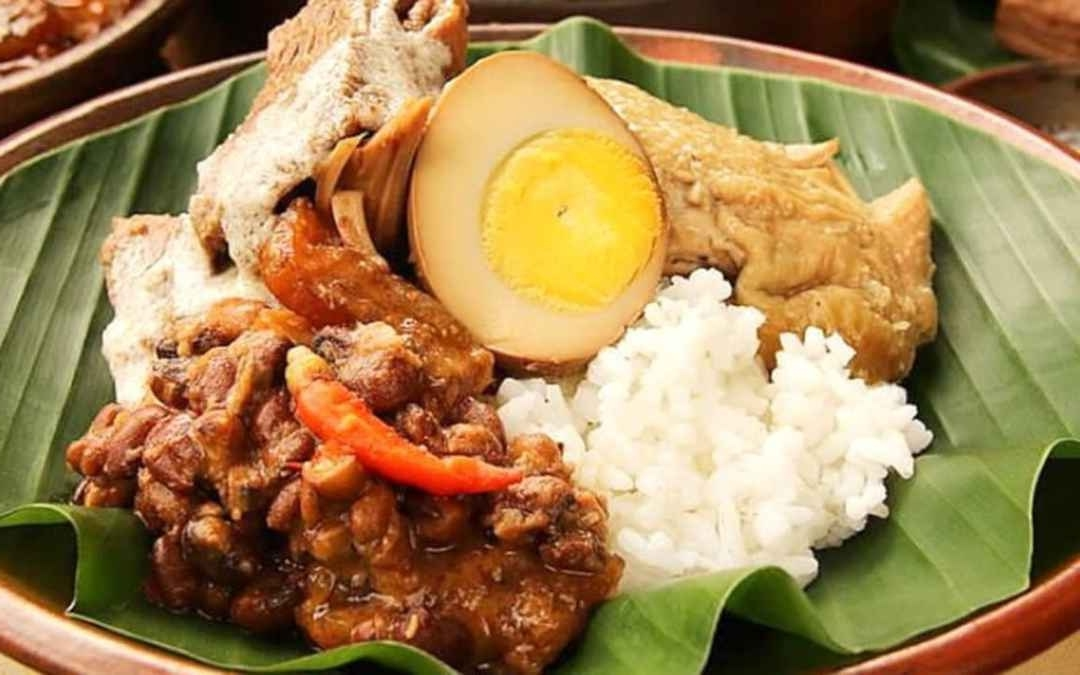gudeg: (75, 3, 943, 638)
